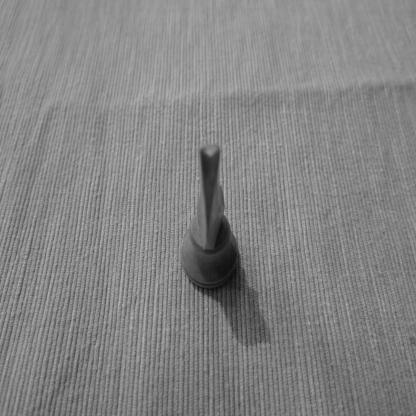white-knight: (180, 144, 239, 291)
